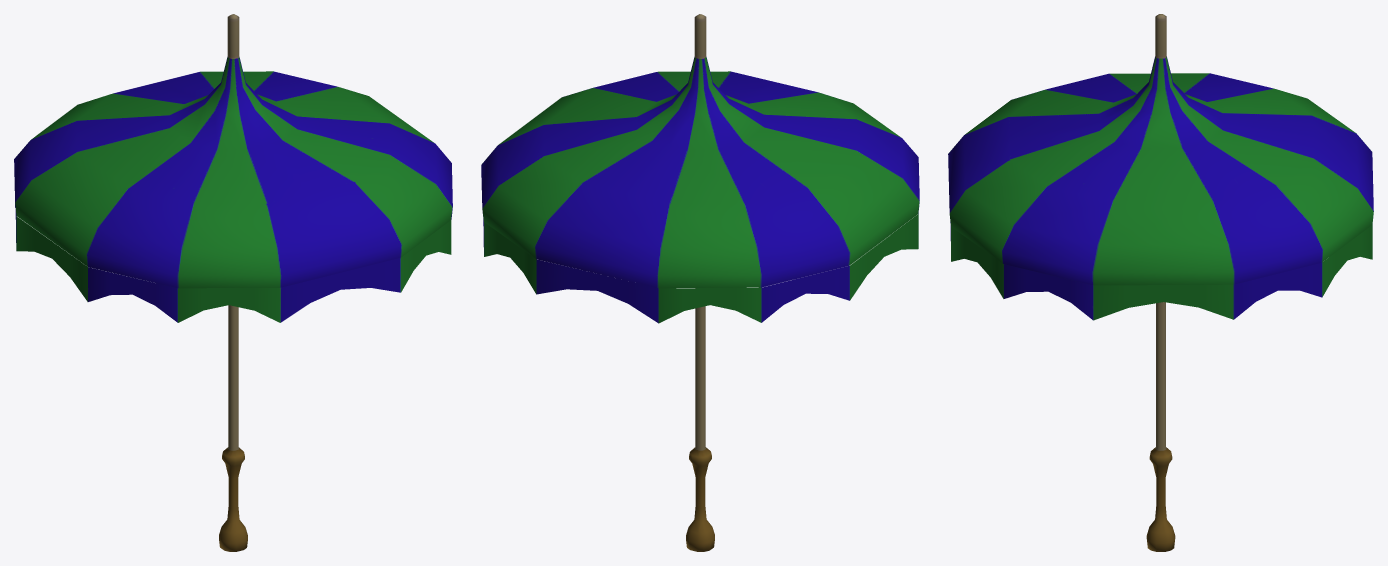
Rendered from GreenBlueParasol2_Scaled.fbx.
3 views of the same model, side by side, from view 1: azimuth 30°, elevation 25°; view 2: azimuth 150°, elevation 25°; view 3: azimuth 270°, elevation 25° (orthographic).
Visible parts, largest first — view 1: ParasolTop_4, Parasol_PointedFrill_2, ParasolHandle_4; view 2: ParasolTop_4, Parasol_PointedFrill_2, ParasolHandle_4; view 3: ParasolTop_4, Parasol_PointedFrill_2, ParasolHandle_4.
Boxes of the visible parts, left/top/right/bottom form: ParasolTop_4: left=14, top=14, right=452, bottom=288; Parasol_PointedFrill_2: left=15, top=203, right=451, bottom=322; ParasolHandle_4: left=219, top=305, right=247, bottom=551; ParasolTop_4: left=481, top=14, right=919, bottom=288; Parasol_PointedFrill_2: left=483, top=214, right=918, bottom=323; ParasolHandle_4: left=686, top=288, right=714, bottom=551; ParasolTop_4: left=948, top=14, right=1373, bottom=285; Parasol_PointedFrill_2: left=950, top=222, right=1372, bottom=320; ParasolHandle_4: left=1146, top=302, right=1175, bottom=551.
Bounding box in the file's own units: 92.6 × 128 × 92.6.
